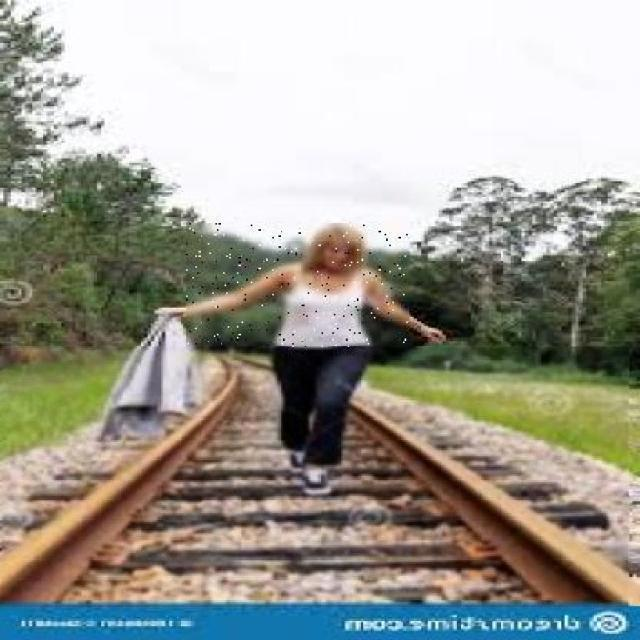rail: (1, 348, 629, 608), (224, 201, 229, 210)
